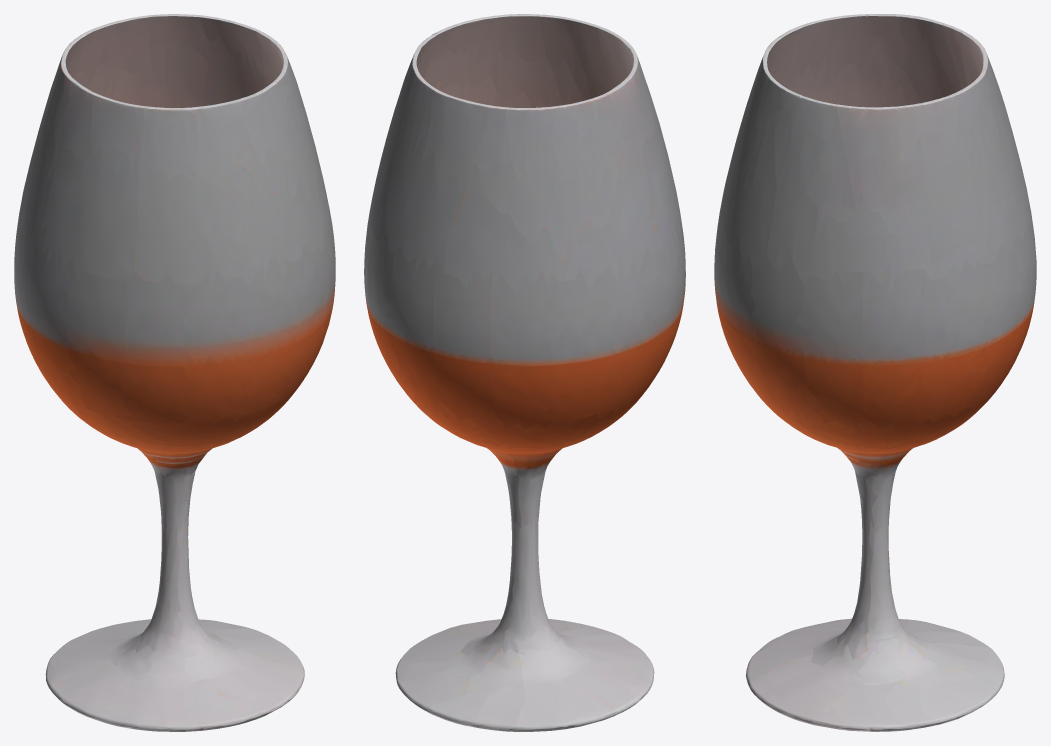
File: rose.glb
3 views of the same model, side by side, from view 1: azimuth 30°, elevation 25°; view 2: azimuth 150°, elevation 25°; view 3: azimuth 270°, elevation 25° (orthographic).
Bounding box in the file's own units: 0.8987 × 1.9 × 0.8999.
1 material, 1 textured.
